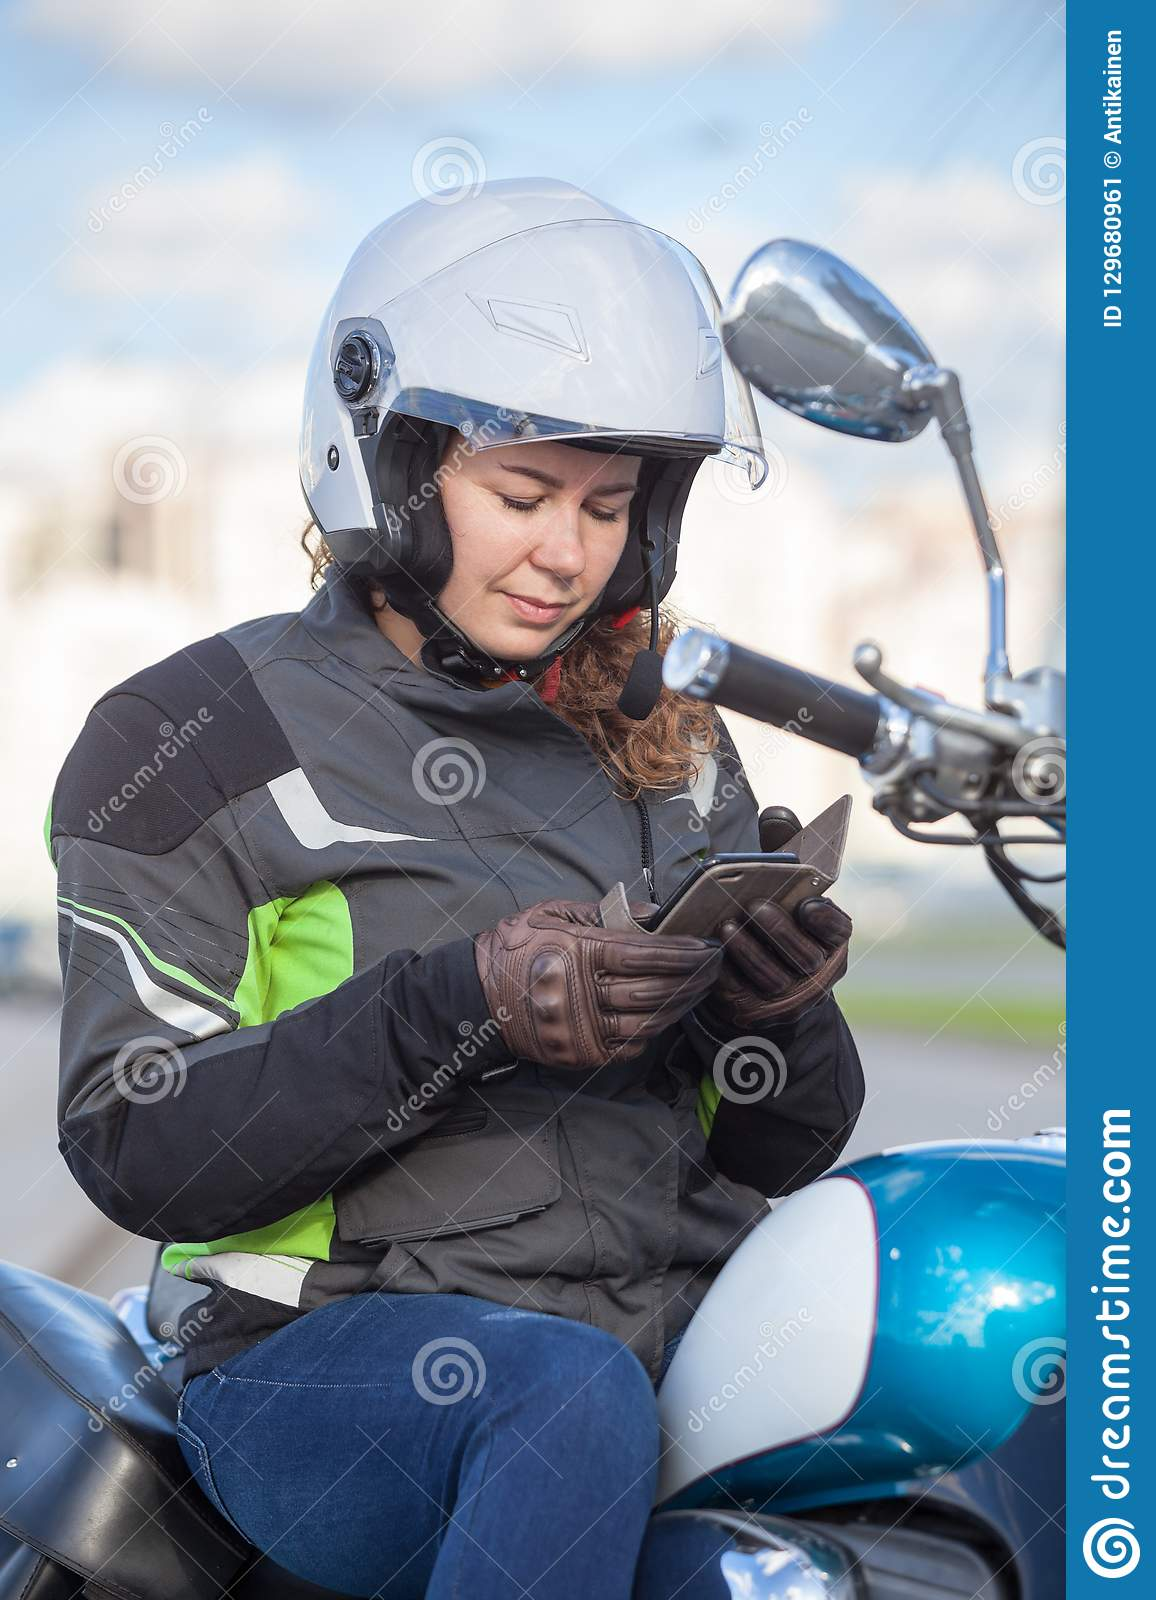helmet: (291, 171, 734, 637)
